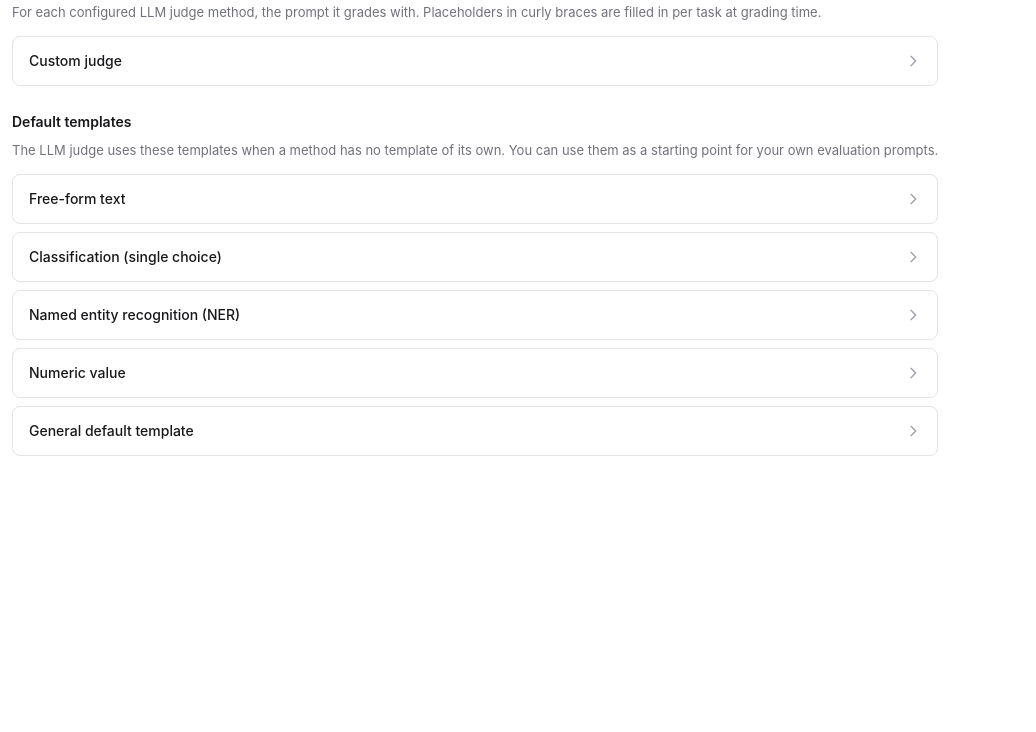
Scenario: EvaluationPromptsOverview › editing › cancel discards the draft
Click the button "Custom judge": (75, 60) [13, 37, 937, 85]
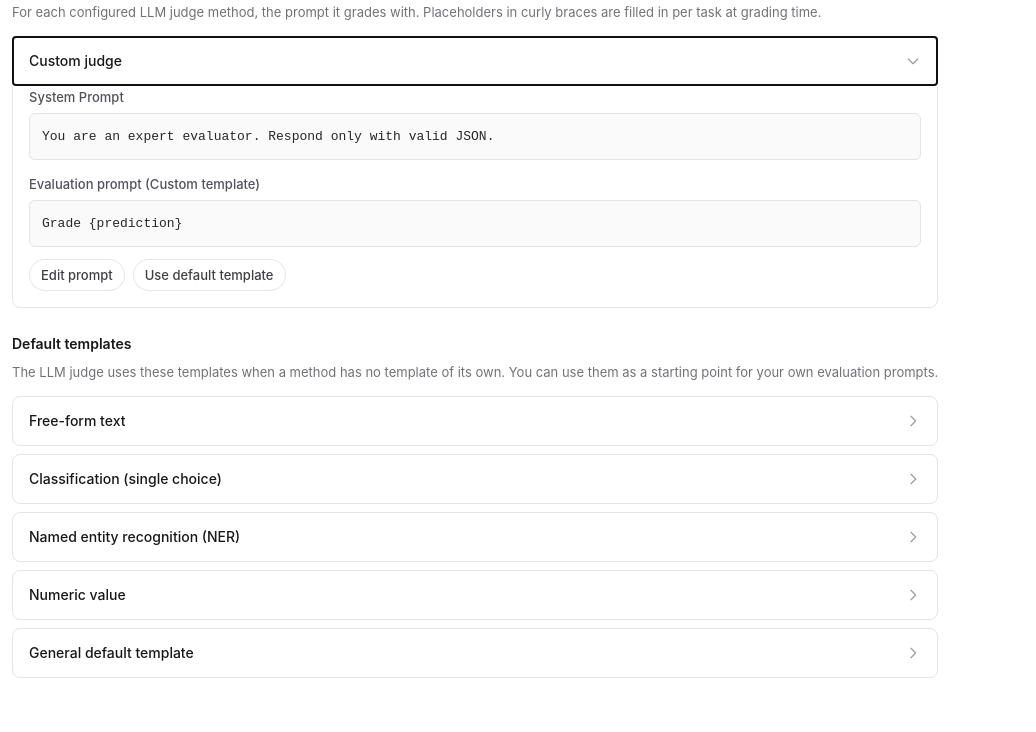
Click the button "Edit prompt": (77, 275) [29, 259, 125, 291]
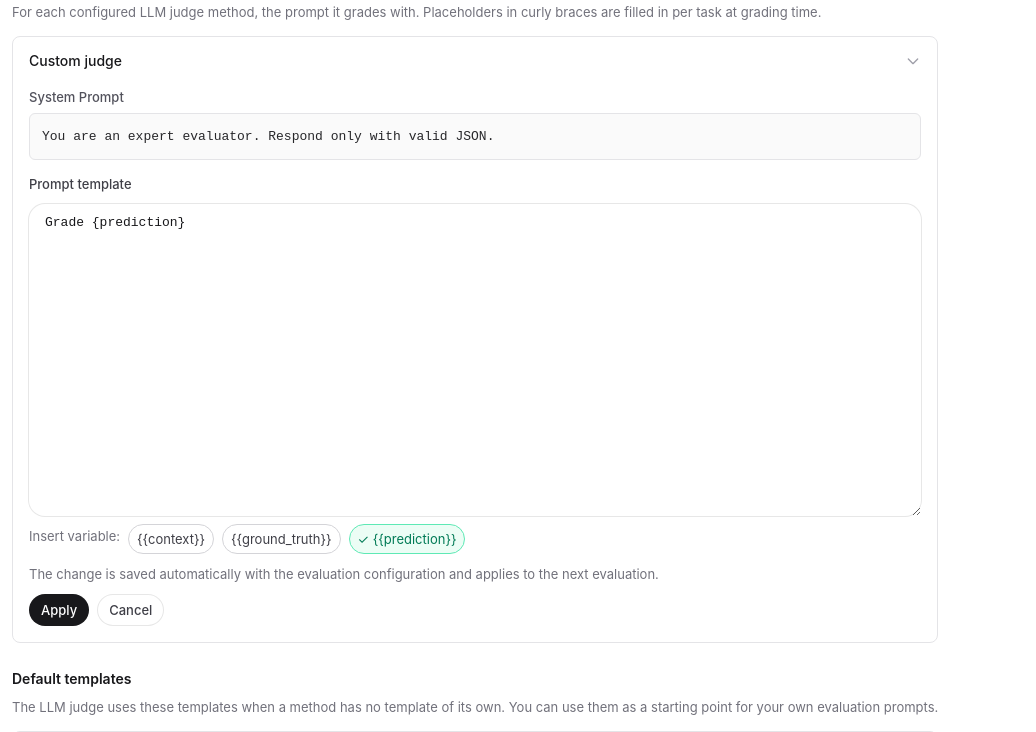
Click the button "Cancel": (131, 610) [97, 594, 164, 626]
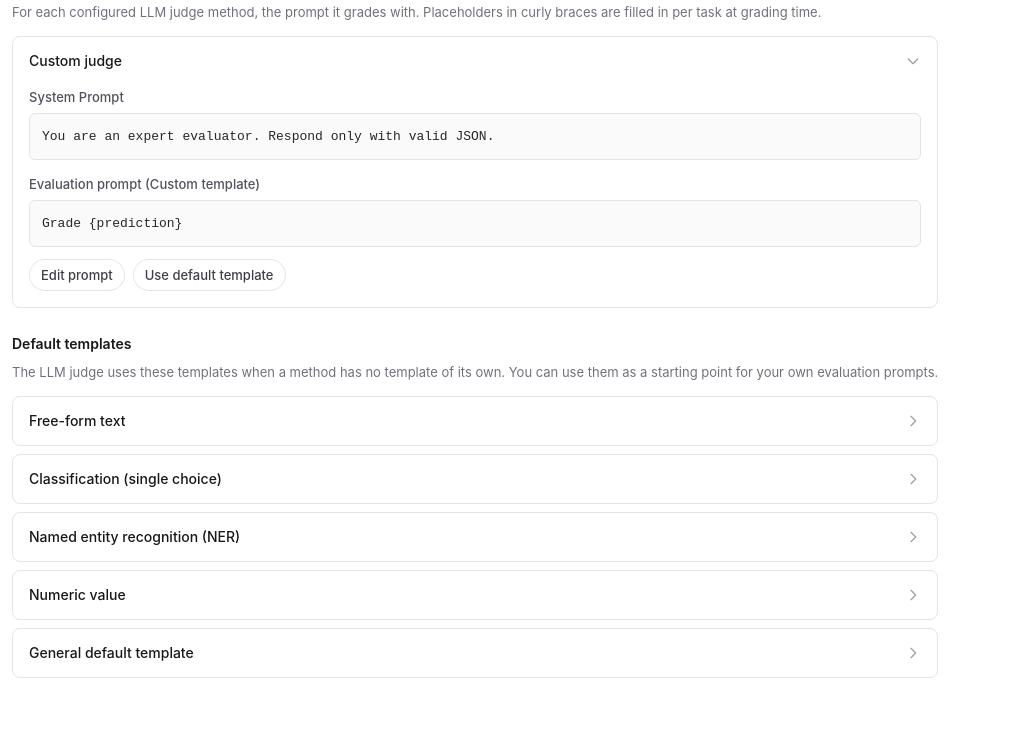
Expected: the element with test id "judge-prompt-editor-e1" is gone
